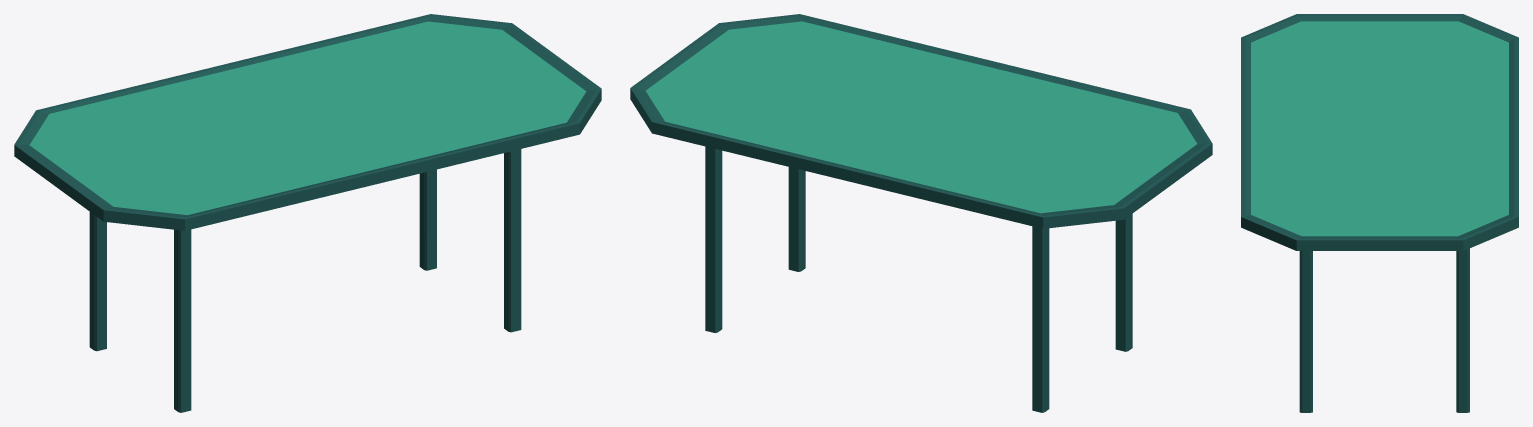
Rendered from MesaCocina.fbx.
The picture shows the model from 3 angles, left to right: view 1: azimuth 30°, elevation 25°; view 2: azimuth 150°, elevation 25°; view 3: azimuth 270°, elevation 25°; orthographic projection. The views are drawn at different scales.
Parts seen in each view (by area): view 1: MesaCocina; view 2: MesaCocina; view 3: MesaCocina.
Boxes of the visible parts, bbox=[...] form: MesaCocina: bbox=[14, 14, 601, 412]; MesaCocina: bbox=[630, 14, 1212, 412]; MesaCocina: bbox=[1241, 14, 1518, 412].
Size of the model in its own units: 166 by 71.06 by 86.04.
